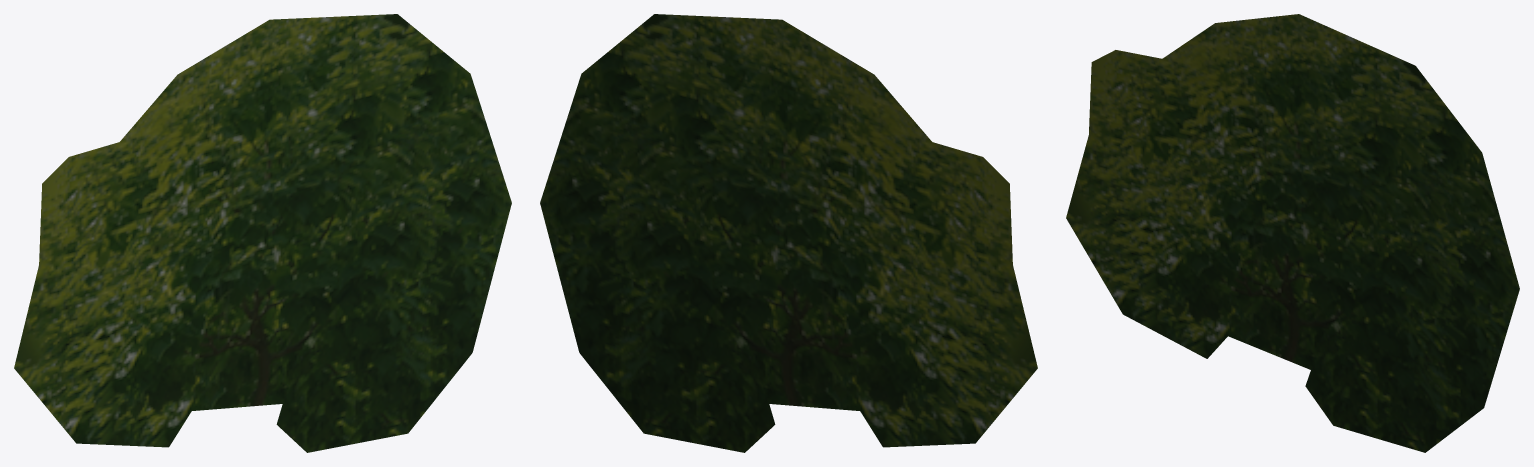
File: Dhz_zsshantree_01.FBX
The picture shows the model from 3 angles, left to right: view 1: azimuth 30°, elevation 25°; view 2: azimuth 150°, elevation 25°; view 3: azimuth 330°, elevation 25°; orthographic projection. The views are drawn at different scales.
Parts seen in each view (by area): view 1: Dhz_zsshantree_01; view 2: Dhz_zsshantree_01; view 3: Dhz_zsshantree_01.
Boxes of the visible parts, x1,y1,x2,y2 form: Dhz_zsshantree_01: (14,14,511,452); Dhz_zsshantree_01: (540,14,1037,452); Dhz_zsshantree_01: (1066,14,1519,452).
Size of the model in its own units: 1.86 by 1.6 by 2.68e-07.
Materials: 1 (1 with a texture image).
